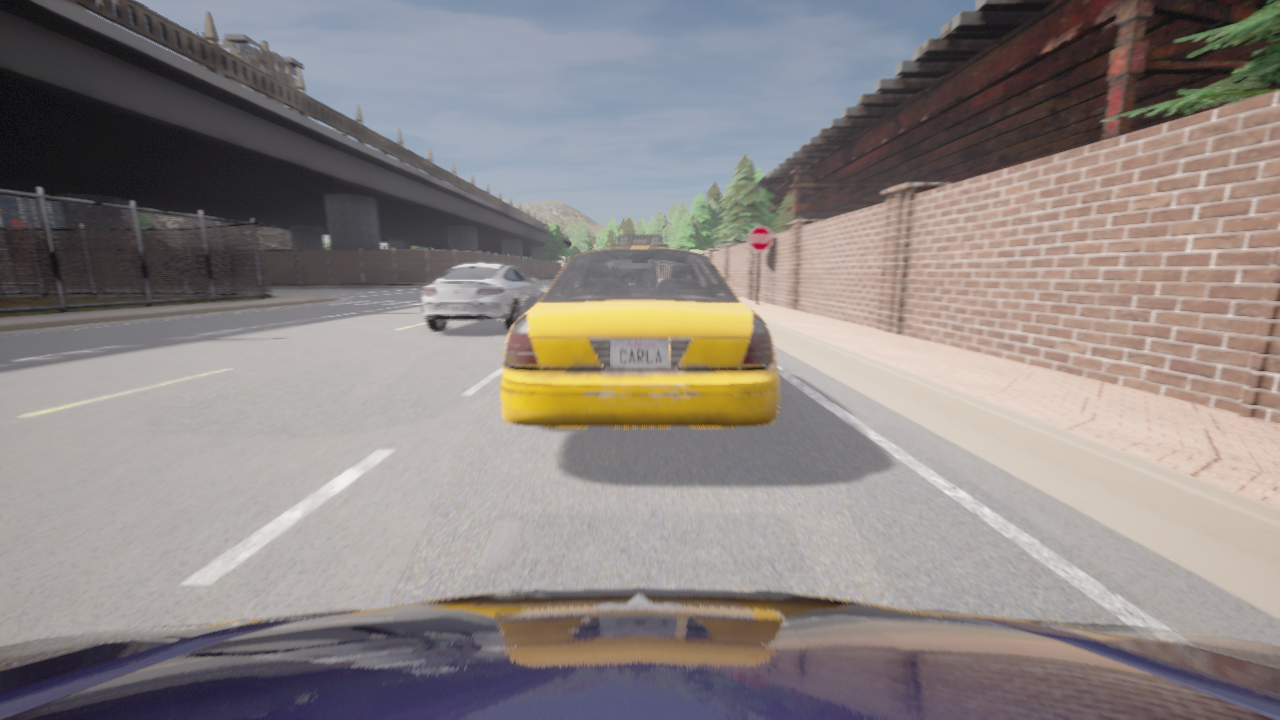cyclist: (0, 588, 1279, 719), (500, 234, 779, 426), (422, 262, 543, 330)
